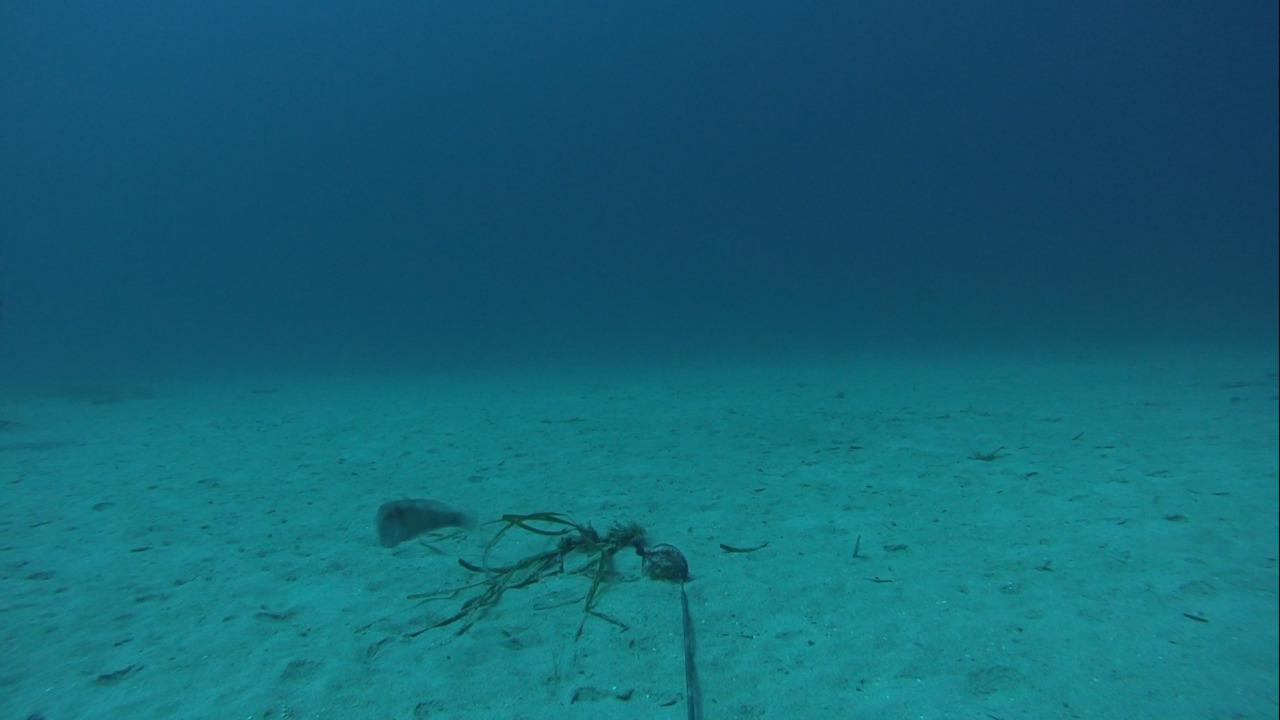raor: (369, 490, 480, 553)
